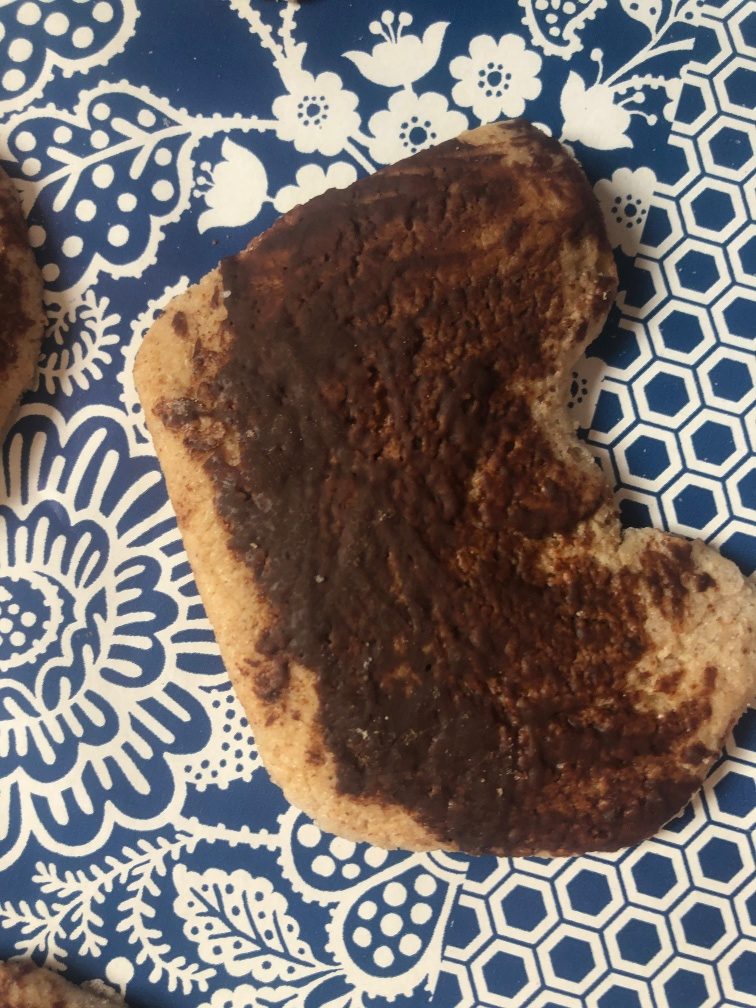weird #1: (134, 124, 750, 858)
